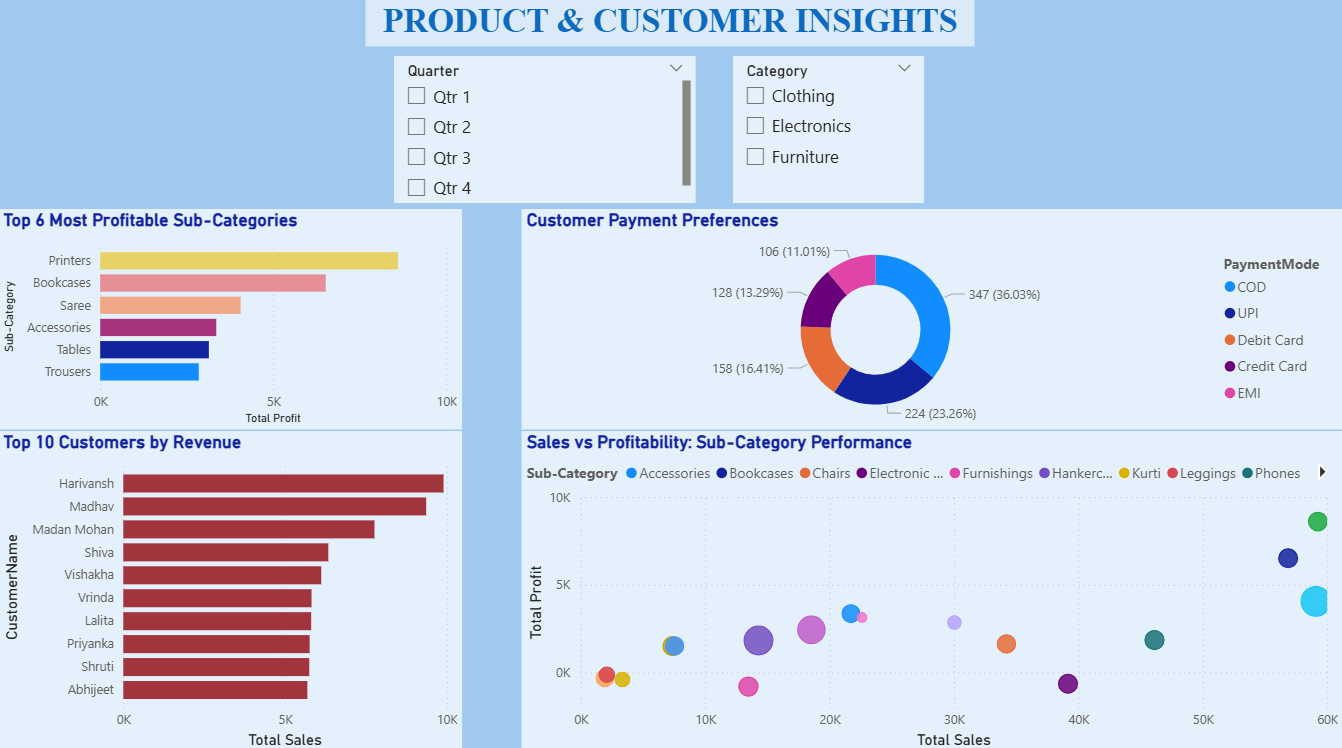

The page's visual inventory and layout, read from the dashboard file:
{"tool":"powerbi","page":{"name":"Product & Customer Insights","canvas":[1280,720],"ordinal":1},"visuals":[{"type":"clusteredBarChart","title":"Top 10 Customers by Revenue","fields":{"Category":["Orders.CustomerName"],"Y":["Details.Total Sales"]},"box":[0,414,442,306],"z":0},{"type":"clusteredBarChart","title":"Top 6 Most Profitable Sub-Categories","fields":{"Category":["Details.Sub-Category"],"Y":["Details.Total Profit"]},"box":[0,203.3,441.7,210],"z":1000},{"type":"scatterChart","title":"Sales vs Profitability: Sub-Category Performance","fields":{"X":["Details.Total Sales"],"Y":["Details.Total Profit"],"Series":["Details.Sub-Category"],"Size":["Details.Total Quantity"]},"box":[498,414,782,306],"z":2000},{"type":"donutChart","title":"Customer Payment Preferences","fields":{"Category":["Details.PaymentMode"],"Y":["Details.Payment Mode Orders"]},"box":[498.3,203.3,781.7,210],"z":3000},{"type":"textbox","box":[350,0,580,48],"z":4000},{"type":"slicer","fields":{"Values":["Orders.Order Date.Variation.Date Hierarchy.Quarter"]},"box":[377.5,57.5,287.5,140],"z":5000},{"type":"slicer","fields":{"Values":["Details.Category"]},"box":[700,57.8,182.2,140],"z":6000}]}

Visuals, with their boxes in screenshot pixels (x1, y1, x2, y2), scaled from the page's 1280x720 canvas onto the 1342x748 screenshot:
"Top 10 Customers by Revenue" clusteredBarChart: l=0, t=430, r=463, b=747
"Top 6 Most Profitable Sub-Categories" clusteredBarChart: l=0, t=211, r=463, b=429
"Sales vs Profitability: Sub-Category Performance" scatterChart: l=522, t=430, r=1341, b=747
"Customer Payment Preferences" donutChart: l=522, t=211, r=1341, b=429
textbox: l=367, t=0, r=975, b=50
slicer - Orders.Order Date.Variation.Date Hierarchy.Quarter: l=396, t=60, r=697, b=205
slicer - Details.Category: l=734, t=60, r=925, b=205
